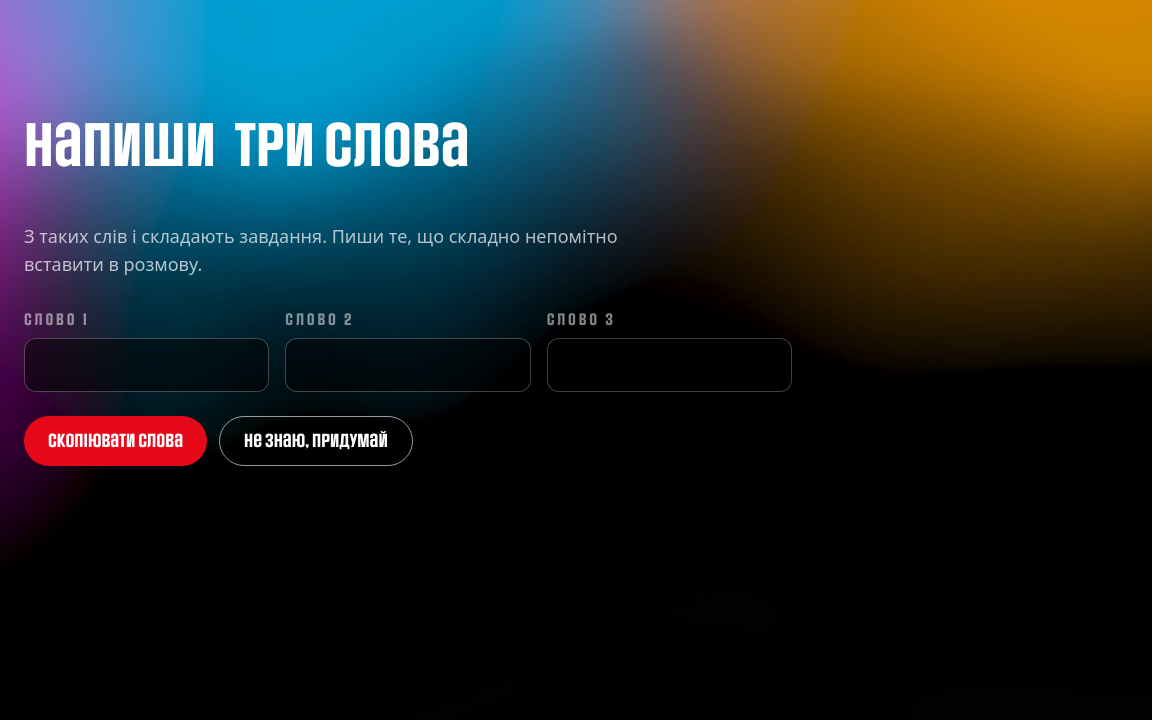
Scenario: WordsForm › після відправки показує слова і каже, що скопіював
Type "пилосос" into the field labelled "Слово 1". click: (147, 365)
box: [24, 338, 269, 392]
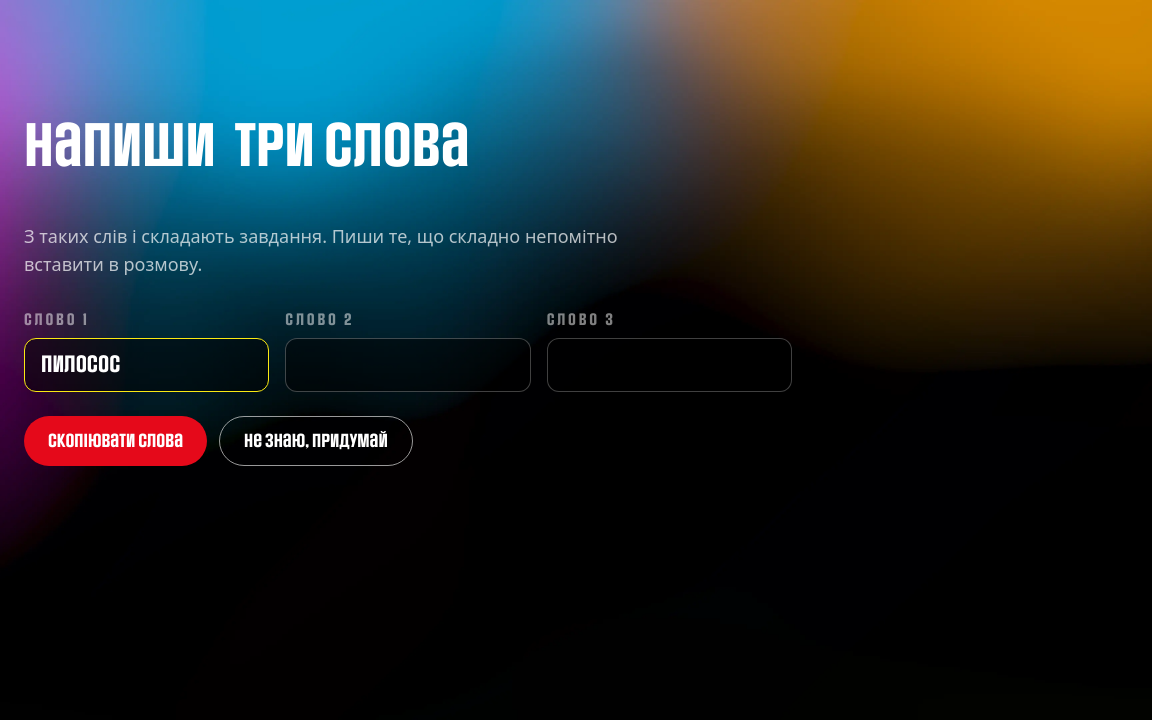
Type "валідол" into the field labelled "Слово 2". click: (408, 365)
box: [285, 338, 531, 392]
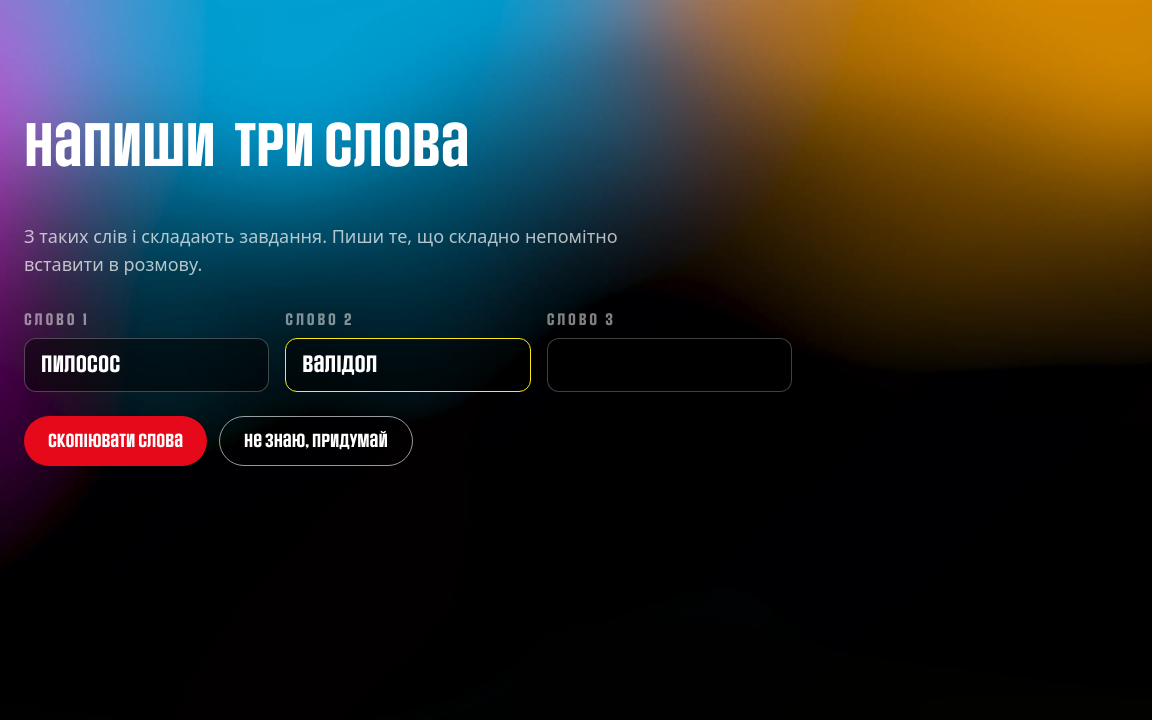
Type "шифер" into the field labelled "Слово 3". click: (669, 365)
box: [547, 338, 792, 392]
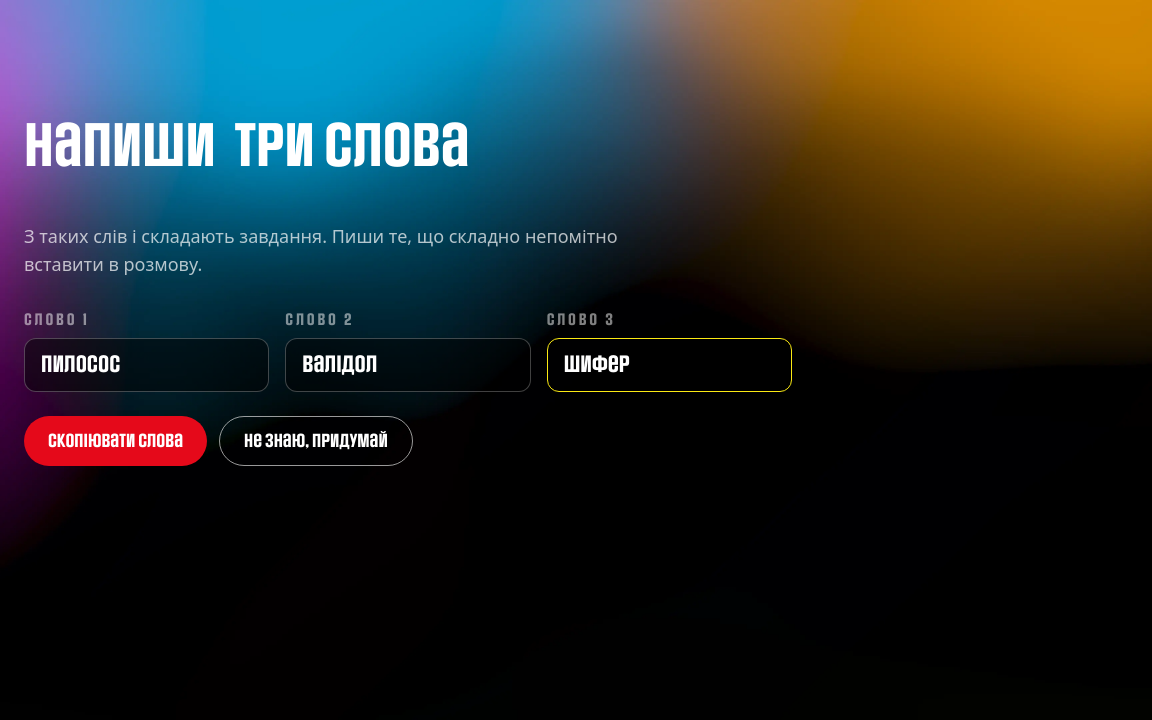
Click the button "Скопіювати слова". click: (116, 441)
box: [24, 416, 207, 466]
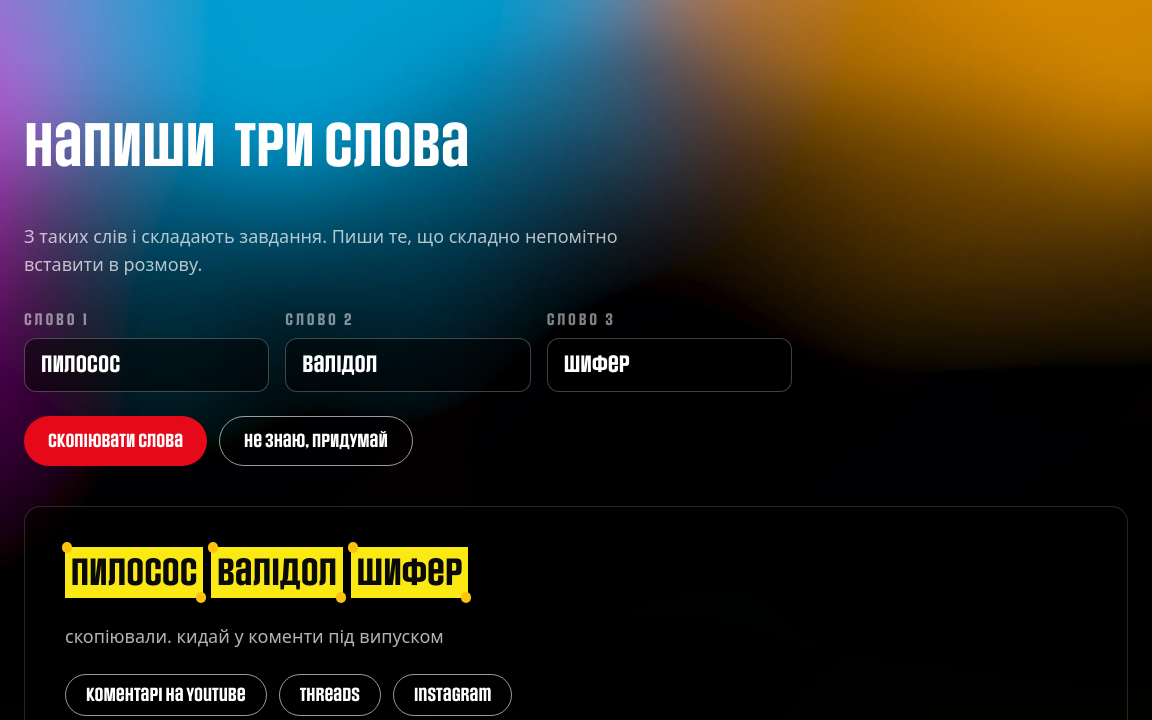
Check: the text "скопіювали. кидай у коменти під випуском" is shown, box [65, 624, 444, 648]
